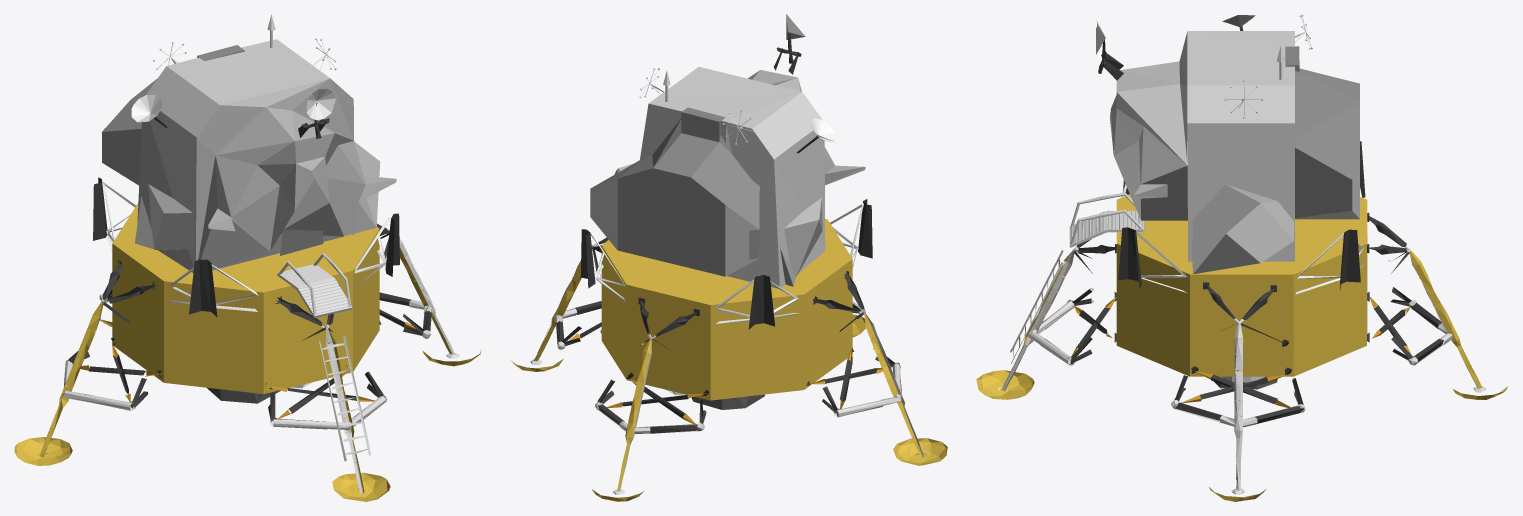
The model's file is lunarModule.glb.
The picture shows the model from 3 angles, left to right: view 1: azimuth 30°, elevation 25°; view 2: azimuth 150°, elevation 25°; view 3: azimuth 270°, elevation 25°; orthographic projection. The views are drawn at different scales.
Parts seen in each view (by area): view 1: ascent, descent; view 2: ascent, descent; view 3: ascent, descent.
Part boxes in pixels (bbox=[...]): ascent: bbox=[93, 14, 399, 328]; descent: bbox=[14, 203, 481, 501]; ascent: bbox=[580, 14, 872, 339]; descent: bbox=[510, 219, 947, 501]; ascent: bbox=[1069, 14, 1411, 323]; descent: bbox=[976, 194, 1507, 501].
Bounding box in the file's own units: 8.96 × 6.96 × 8.95.
